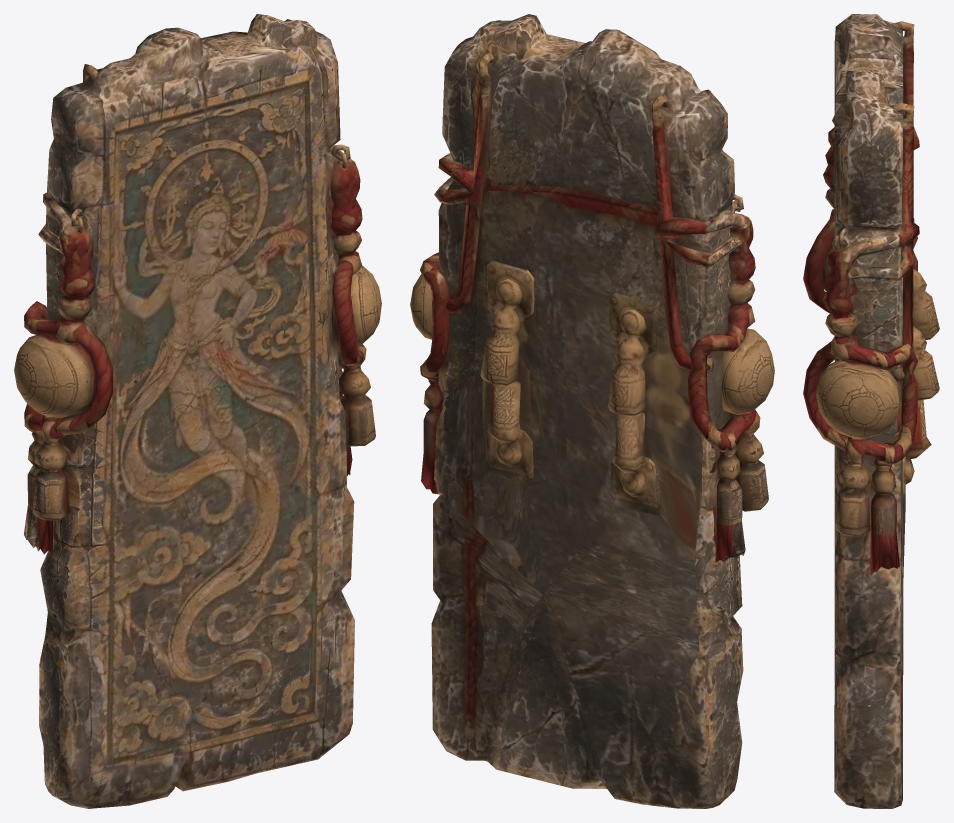
File: SM_EnemyWeapon_CamelStele.glb
The picture shows the model from 3 angles, left to right: view 1: azimuth 30°, elevation 25°; view 2: azimuth 150°, elevation 25°; view 3: azimuth 270°, elevation 25°; orthographic projection. The views are drawn at different scales.
Parts seen in each view (by area): view 1: SM_EnemyWeapon_CamelStele_LOD0; view 2: SM_EnemyWeapon_CamelStele_LOD0; view 3: SM_EnemyWeapon_CamelStele_LOD0.
Part boxes in pixels (x1,y1,x2,y2): SM_EnemyWeapon_CamelStele_LOD0: (14, 14, 381, 808); SM_EnemyWeapon_CamelStele_LOD0: (410, 14, 774, 808); SM_EnemyWeapon_CamelStele_LOD0: (803, 14, 939, 808).
Size of the model in its own units: 0.8626 by 1.75 by 0.3008.
Materials: 1 (1 with a texture image).
